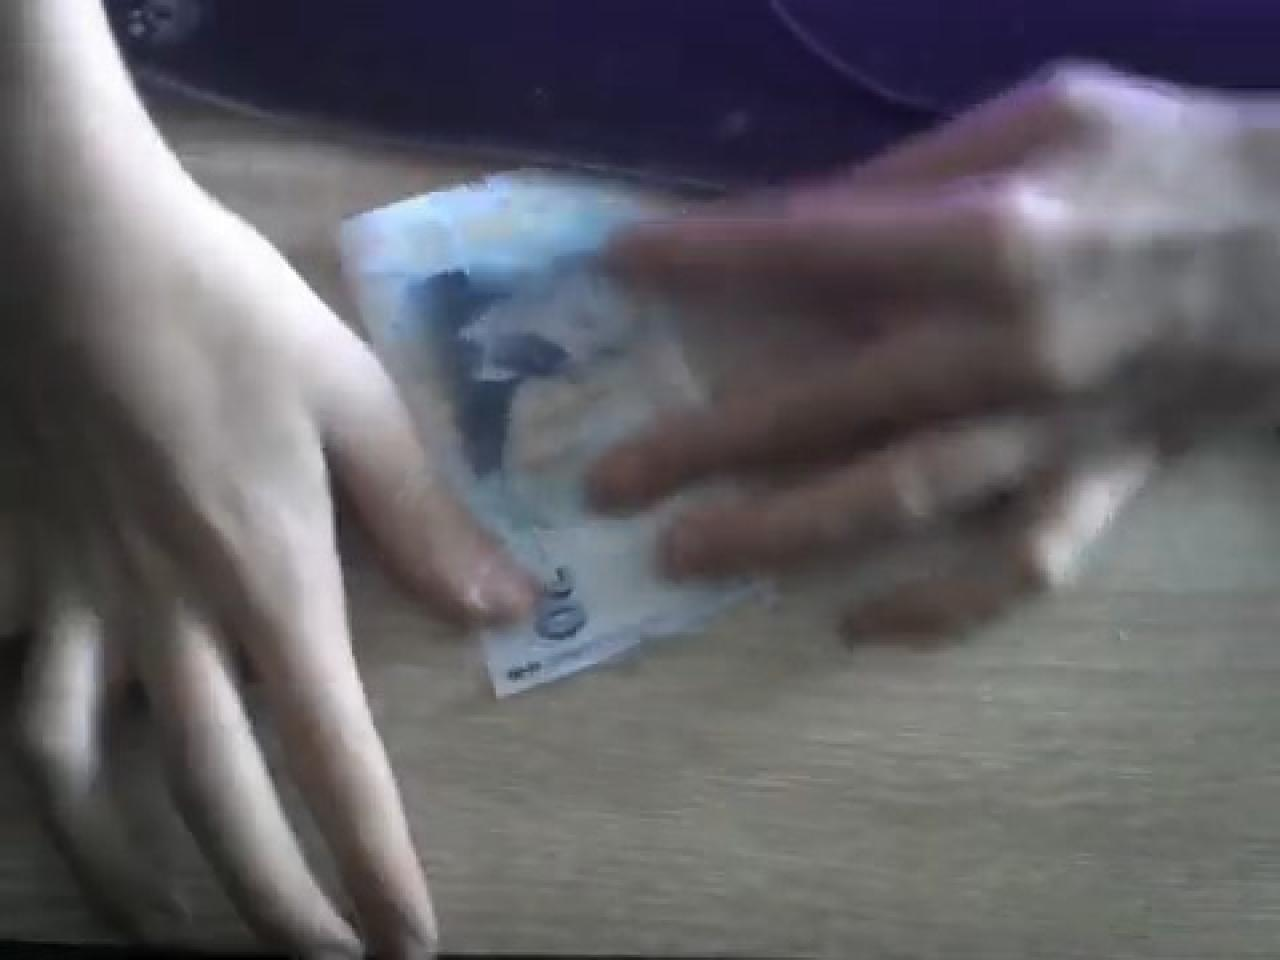20leva: (352, 176, 1147, 658)
